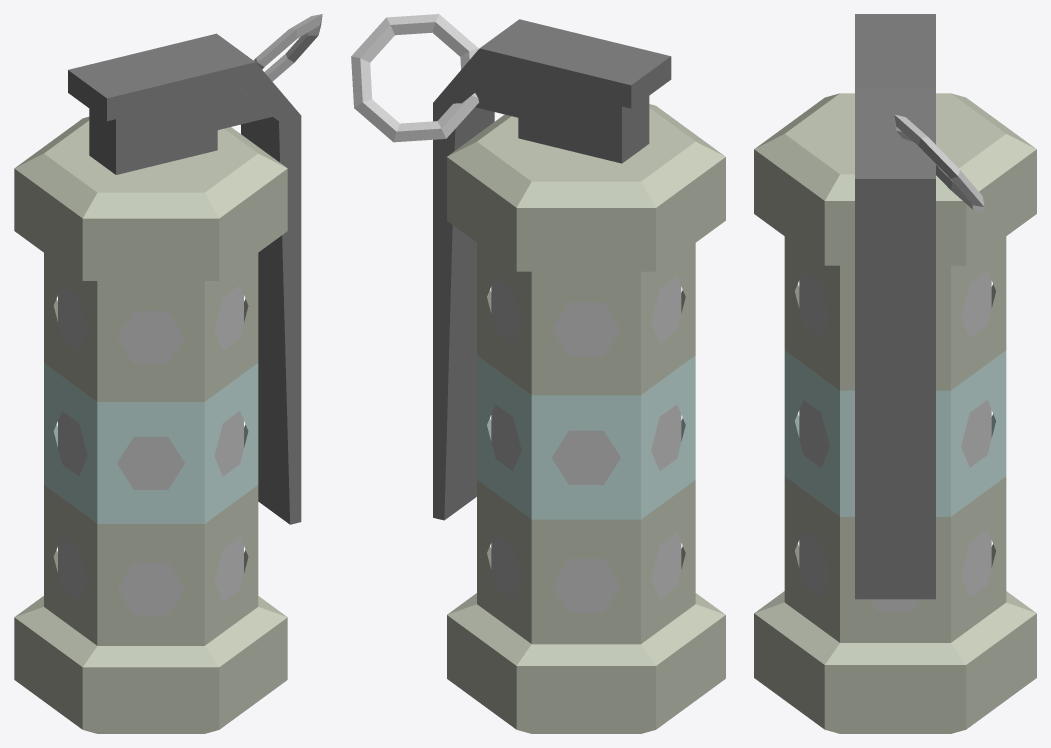
File: Flashbang.fbx
3 views of the same model, side by side, from view 1: azimuth 30°, elevation 25°; view 2: azimuth 150°, elevation 25°; view 3: azimuth 270°, elevation 25° (orthographic). The views are drawn at different scales.
Visible parts, largest first — view 1: Flashbang; view 2: Flashbang; view 3: Flashbang.
Boxes of the visible parts, x1,y1,x2,y2 form: Flashbang: [14, 14, 322, 733]; Flashbang: [351, 14, 725, 733]; Flashbang: [754, 14, 1036, 733].
Bounding box in the file's own units: 0.0511 × 0.1018 × 0.04.
